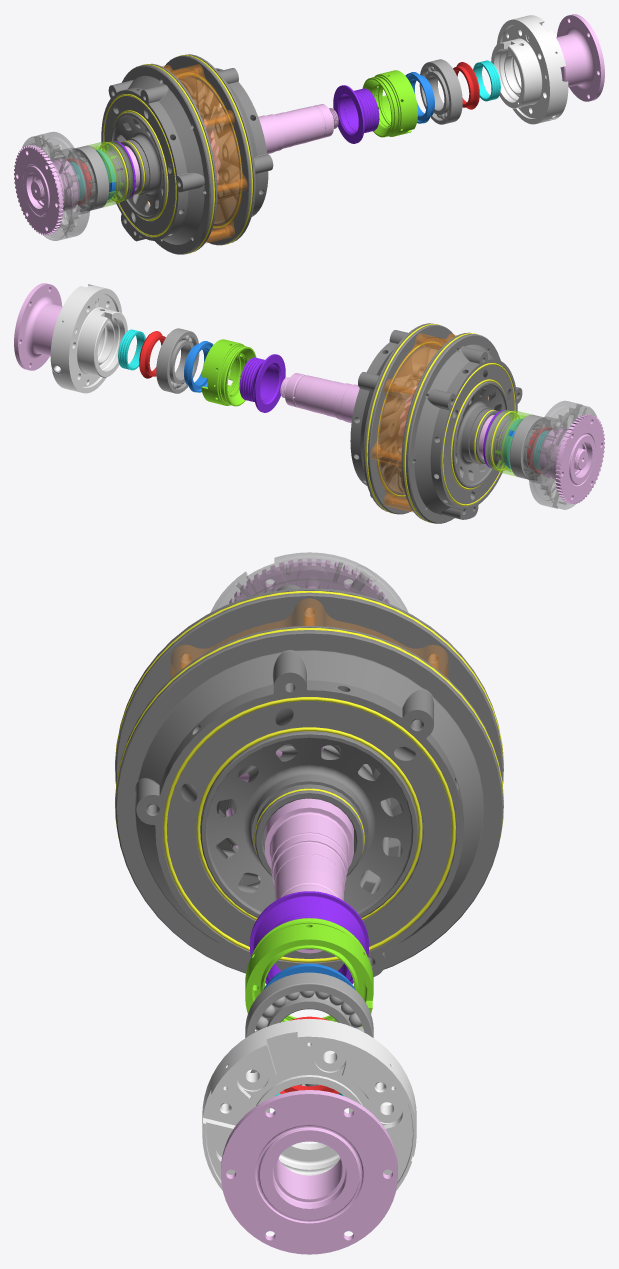
Rendered from ShaftDetailsNEW2.glb.
The picture shows the model from 3 angles, top to bottom: view 1: azimuth 30°, elevation 25°; view 2: azimuth 150°, elevation 25°; view 3: azimuth 270°, elevation 25°; orthographic projection. The views are drawn at different scales.
Parts seen in each view (by area): view 1: StatorB, StatorA, EndCover, CentralStator, \X2\0414043504420430043B044C\X0\, \X2\041A0440044B0448043A0430\X0\_\X2\0412\X0\, \X2\04120430043B\X0\, Shaft, AirSeal, WaterThrow, \X2\0412043E0437043404430448043D043E0435\X0\ \X2\0443043F043, Bearing (+11 smaller); view 2: StatorB, StatorA, EndCover, CentralStator, \X2\0414043504420430043B044C\X0\, \X2\041A0440044B0448043A0430\X0\_\X2\0412\X0\, \X2\04120430043B\X0\, Shaft, AirSeal, WaterThrow, \X2\0412043E0437043404430448043D043E0435\X0\ \X2\0443043F043, Bearing (+11 smaller); view 3: StatorA, Shaft, EndCover, StatorB, \X2\04120430043B\X0\, \X2\041A0440044B0448043A0430\X0\_\X2\0412\X0\, AirSeal, WaterThrow, O-ring \X2\0441044204300442043E0440\X0\ 222x3, \X2\0414043504420430043B044C\X0\, CentralStator, Bearing (+3 smaller).
Boxes of the visible parts, x1,y1,x2,y2 form: StatorB: (101, 63, 217, 254); StatorA: (164, 54, 273, 245); EndCover: (491, 15, 568, 124); CentralStator: (148, 64, 247, 243); \X2\0414043504420430043B044C\X0\: (14, 145, 79, 235); \X2\041A0440044B0448043A0430\X0\_\X2\0412\X0\: (22, 132, 95, 240); \X2\04120430043B\X0\: (31, 104, 338, 203); Shaft: (556, 14, 604, 101); AirSeal: (362, 70, 417, 137); WaterThrow: (333, 85, 379, 143); \X2\0412043E0437043404430448043D043E0435\X0\ \X2\0443043F043: (87, 141, 133, 207); Bearing: (419, 59, 462, 124); StatorB: (401, 332, 522, 523); StatorA: (350, 323, 454, 514); EndCover: (50, 284, 127, 393); CentralStator: (371, 333, 488, 512); \X2\0414043504420430043B044C\X0\: (539, 414, 604, 504); \X2\041A0440044B0448043A0430\X0\_\X2\0412\X0\: (523, 400, 596, 509); \X2\04120430043B\X0\: (280, 373, 587, 472); Shaft: (14, 283, 62, 370); AirSeal: (201, 339, 256, 406); WaterThrow: (239, 354, 285, 412); \X2\0412043E0437043404430448043D043E0435\X0\ \X2\0443043F043: (485, 410, 531, 476); Bearing: (156, 328, 199, 393); StatorA: (115, 625, 503, 976); Shaft: (221, 1090, 397, 1254); EndCover: (202, 1019, 416, 1190); StatorB: (115, 584, 503, 845); \X2\04120430043B\X0\: (226, 747, 353, 953); \X2\041A0440044B0448043A0430\X0\_\X2\0412\X0\: (210, 552, 408, 612); AirSeal: (245, 918, 373, 1030); WaterThrow: (249, 891, 369, 984); O-ring \X2\0441044204300442043E0440\X0\ 222x3: (163, 697, 455, 962); \X2\0414043504420430043B044C\X0\: (229, 558, 389, 603); CentralStator: (170, 598, 448, 845); Bearing: (245, 972, 373, 1085).
Size of the model in its own units: 0.985 by 0.3028 by 0.3029.
